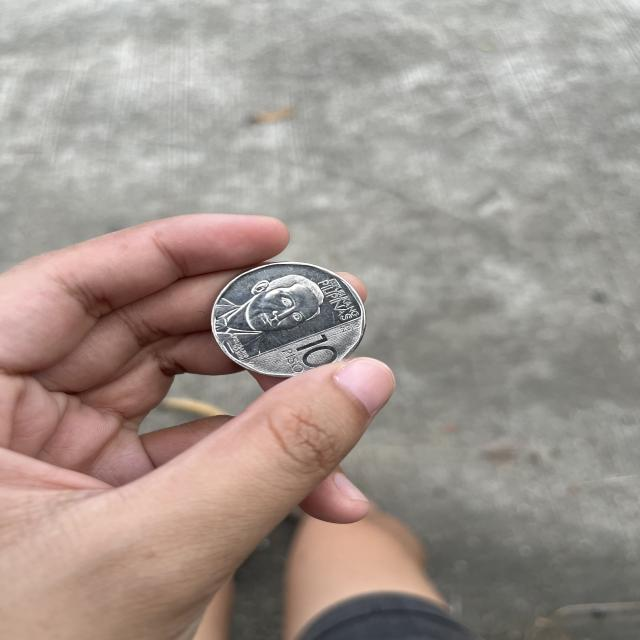10_New_Front: (273, 322, 337, 378)
